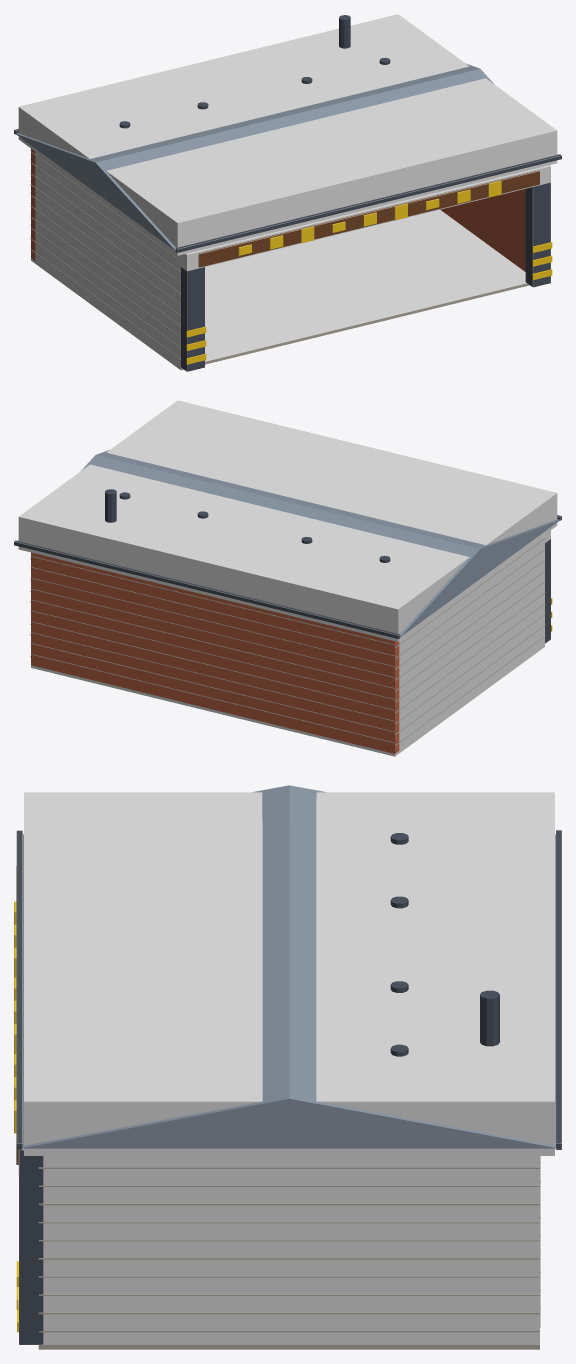
The model's file is bld_workshop_a.glb.
The picture shows the model from 3 angles, top to bottom: view 1: azimuth 30°, elevation 25°; view 2: azimuth 150°, elevation 25°; view 3: azimuth 270°, elevation 25°; orthographic projection. The views are drawn at different scales.
Visible parts, largest first — view 1: COL_bld_workshop_a_6, bld_workshop_a, COL_bld_workshop_a_1, COL_bld_workshop_a_3, COL_bld_workshop_a_5; view 2: COL_bld_workshop_a_6, bld_workshop_a, COL_bld_workshop_a_3, COL_bld_workshop_a_2; view 3: COL_bld_workshop_a_6, COL_bld_workshop_a_4, bld_workshop_a, COL_bld_workshop_a_2.
Boxes of the visible parts, x1,y1,x2,y2 form: COL_bld_workshop_a_6: (18, 14, 557, 255); bld_workshop_a: (14, 15, 561, 371); COL_bld_workshop_a_1: (34, 209, 526, 369); COL_bld_workshop_a_3: (33, 152, 180, 367); COL_bld_workshop_a_5: (180, 165, 550, 271); COL_bld_workshop_a_6: (18, 400, 557, 641); bld_workshop_a: (14, 450, 561, 753); COL_bld_workshop_a_3: (393, 536, 544, 755); COL_bld_workshop_a_2: (31, 665, 399, 756); COL_bld_workshop_a_6: (24, 792, 554, 1155); COL_bld_workshop_a_4: (39, 1156, 539, 1344); bld_workshop_a: (14, 785, 561, 1349); COL_bld_workshop_a_2: (525, 1156, 539, 1344).
Bounding box in the file's own units: 14.8 × 6.65 × 10.94.
